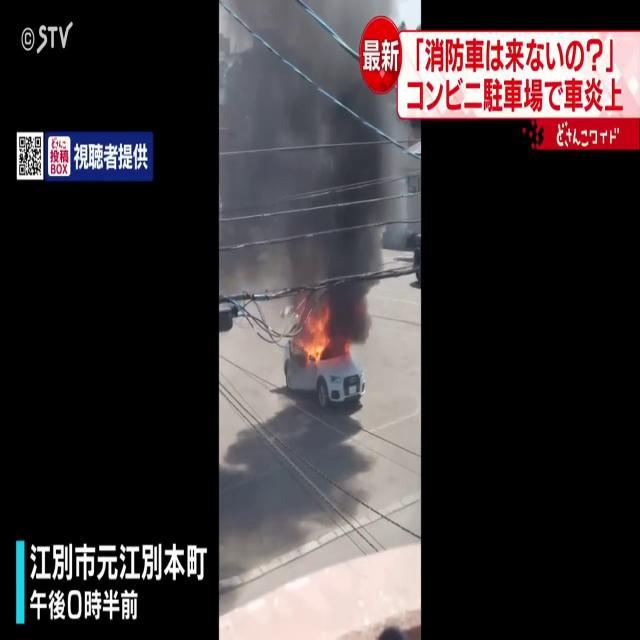Fire: (296, 301, 334, 366)
Smoke: (220, 1, 406, 342)
